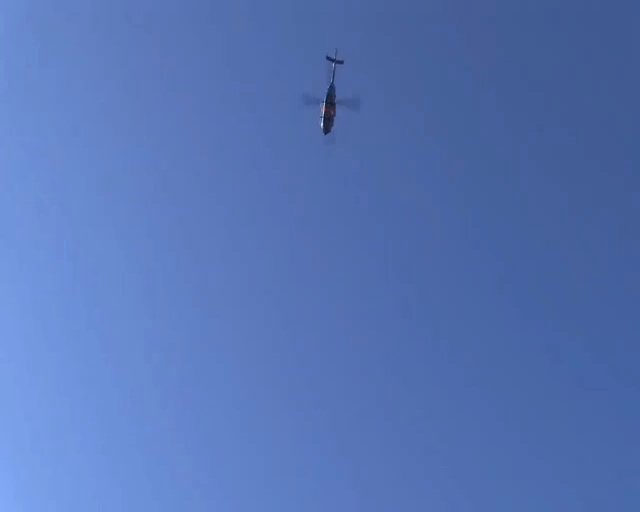HELICOPTER: (301, 48, 361, 136)
